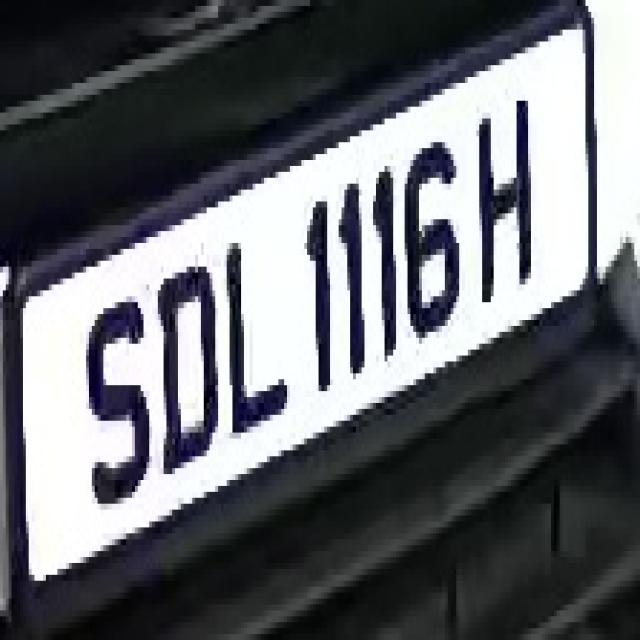1: (367, 154, 405, 373), (304, 178, 339, 403), (333, 160, 367, 391)
6: (399, 125, 462, 362)
D: (152, 249, 218, 480)
H: (470, 83, 540, 320)
L: (230, 225, 287, 433)
S: (80, 284, 152, 516)
